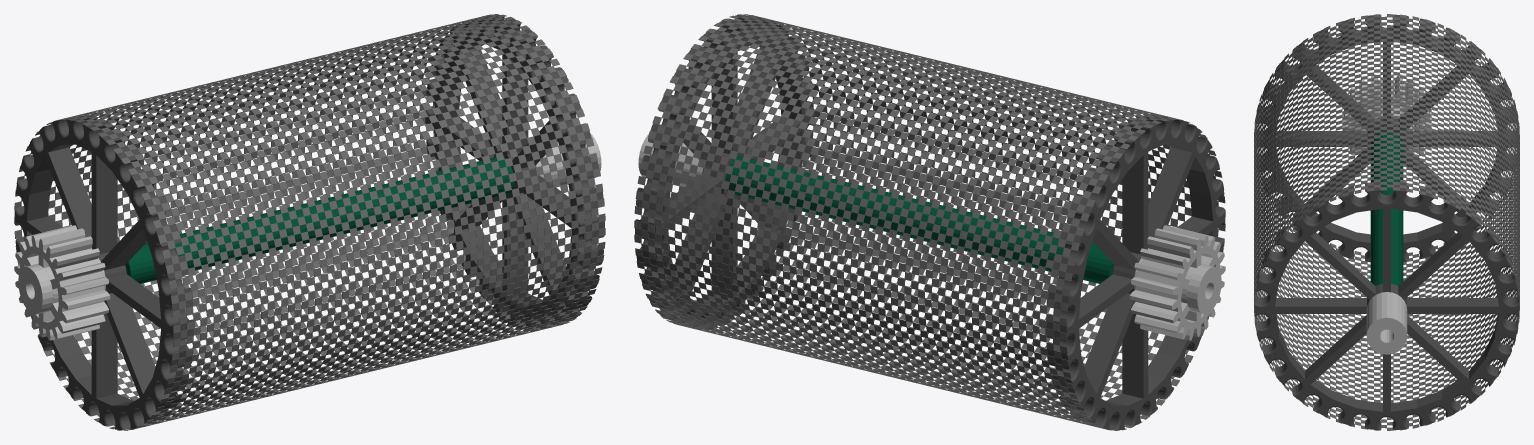
File: x_drive_base_roller_link_roller_link.obj
3 views of the same model, side by side, from view 1: azimuth 30°, elevation 25°; view 2: azimuth 150°, elevation 25°; view 3: azimuth 270°, elevation 25° (orthographic). The views are drawn at different scales.
Bounding box in the file's own units: 0.1676 × 0.0828 × 0.0828.
